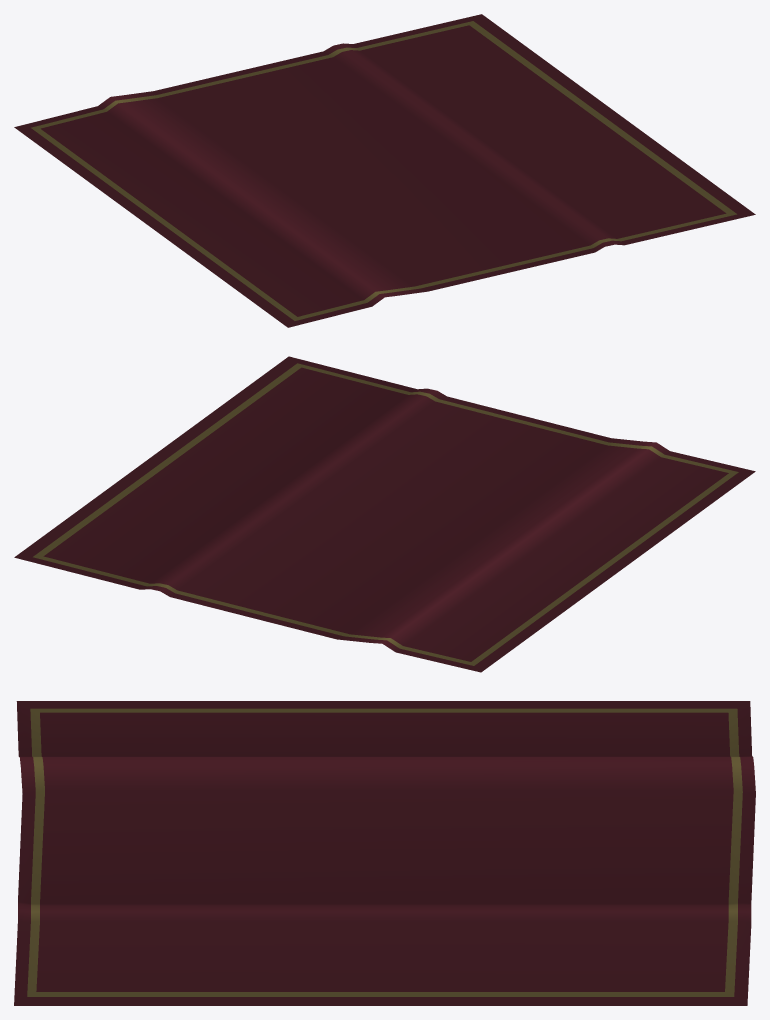
File: pq_tapis_carre.glb
3 renders of one model, top to bottom at view 1: azimuth 30°, elevation 25°; view 2: azimuth 150°, elevation 25°; view 3: azimuth 270°, elevation 25°, orthographic. The views are drawn at different scales.
Visible parts, largest first — view 1: Carpet_2; view 2: Carpet_2; view 3: Carpet_2.
Part boxes in pixels (<box>): Carpet_2: <box>14,14,755,327</box>; Carpet_2: <box>14,356,755,672</box>; Carpet_2: <box>14,701,755,1005</box>.
Bounding box in the file's own units: 2.53 × 0.03 × 2.6.
